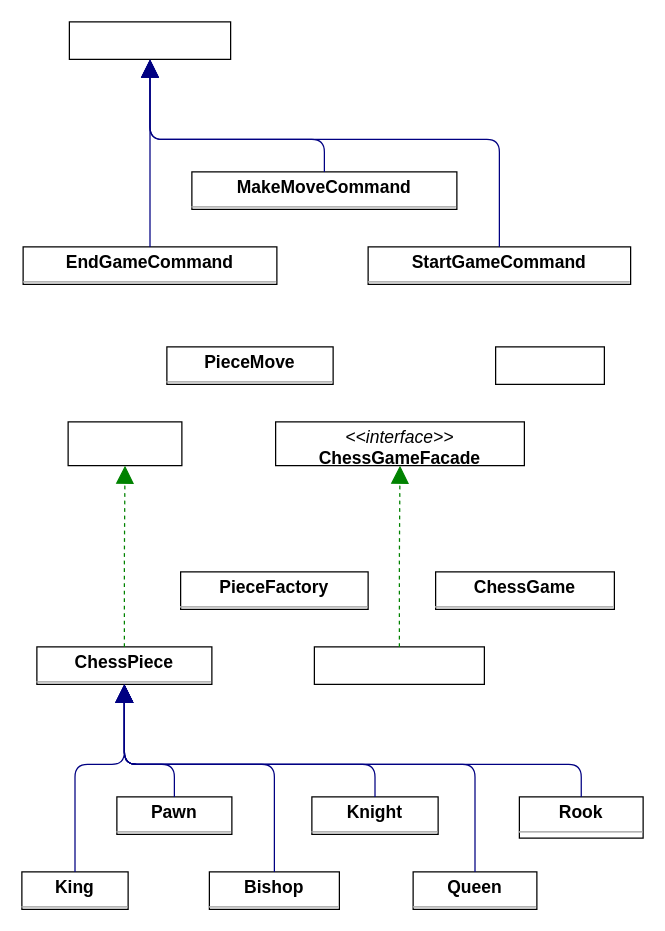
The diagram is 665 pixels wide and 931 high, and some of its shapes have lost their labels. Here are the shapes that lost their labels. From the top down, the box of each, then its label:
(68, 21, 231, 59): Command
(494, 346, 604, 384): Main
(67, 421, 182, 466): <<interface>> Piece
(313, 646, 484, 684): GameLogic
